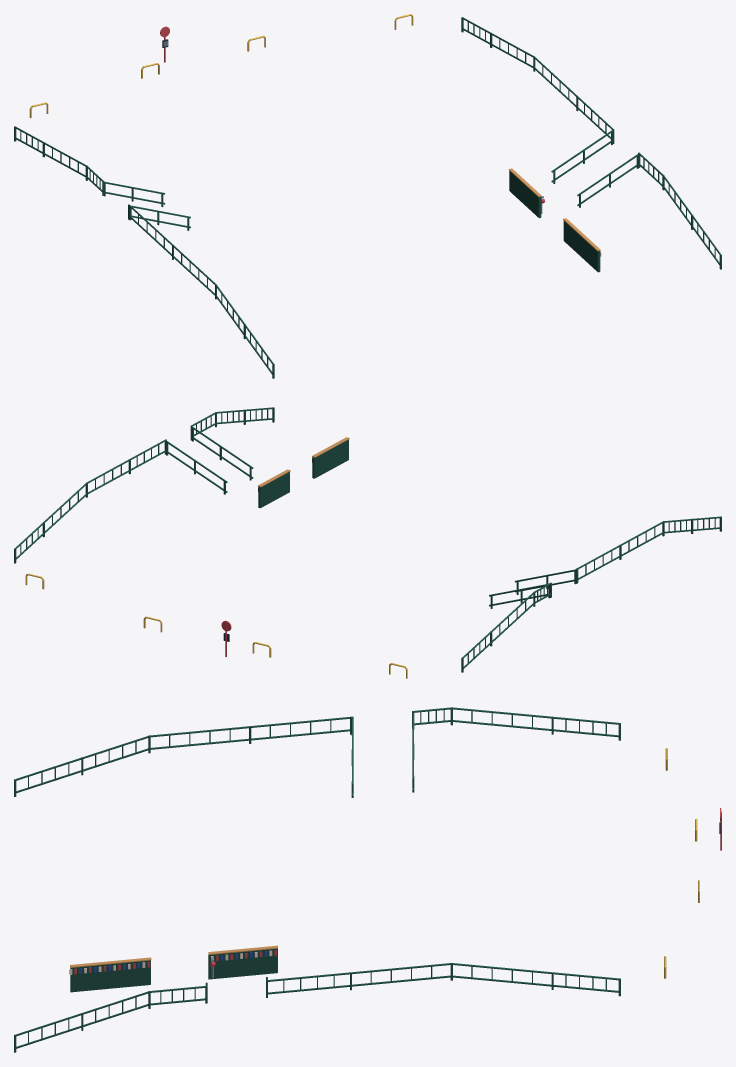
The model's file is street_detail.glb.
3 renders of one model, top to bottom at view 1: azimuth 30°, elevation 25°; view 2: azimuth 150°, elevation 25°; view 3: azimuth 270°, elevation 25°, orthographic. The views are drawn at different scales.
Parts seen in each view (by area): view 1: street_detail; view 2: street_detail; view 3: street_detail.
Part boxes in pixels (x1,y1,x2,y2): street_detail: (14, 14, 721, 378); street_detail: (14, 407, 721, 678); street_detail: (14, 707, 721, 1052).
Bounding box in the file's own units: 36.13 × 6.46 × 42.15.
